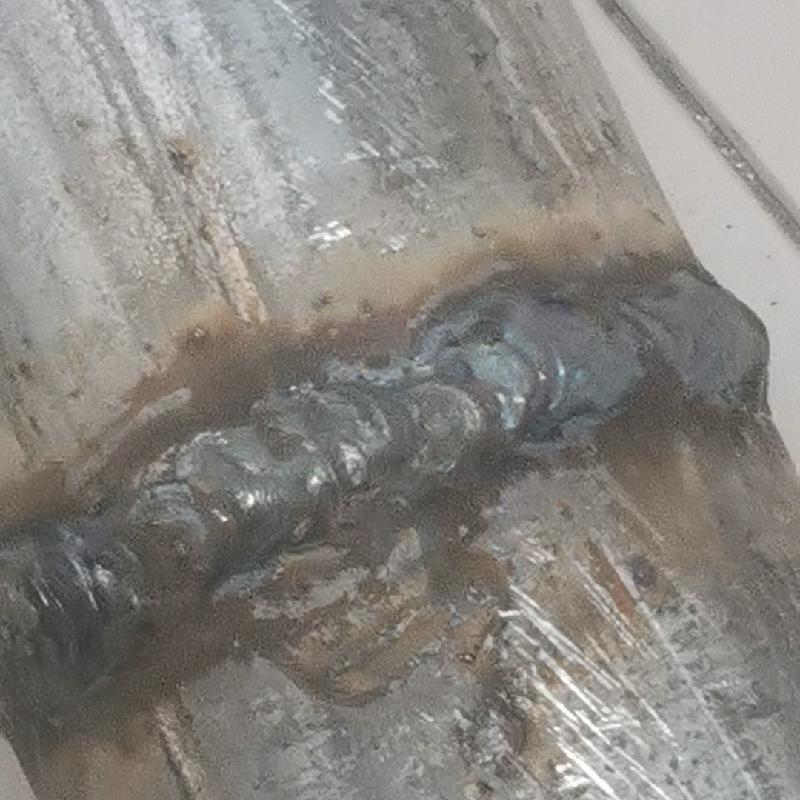good: (0, 234, 768, 688)
